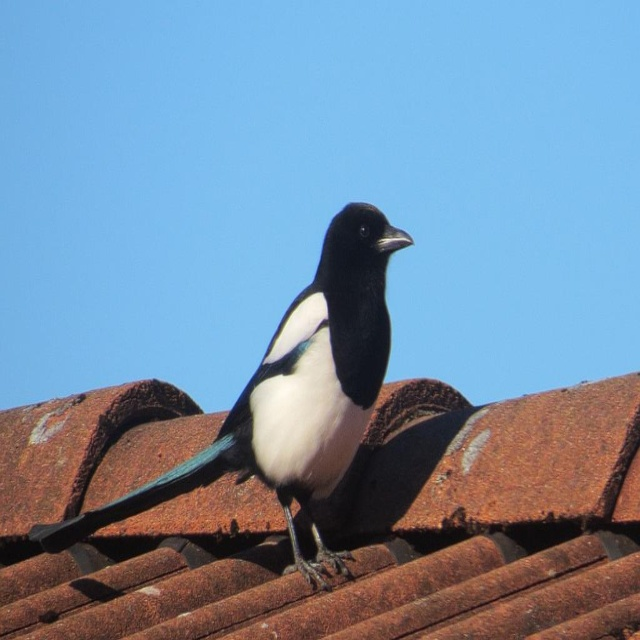Magpie: (34, 200, 417, 589)
